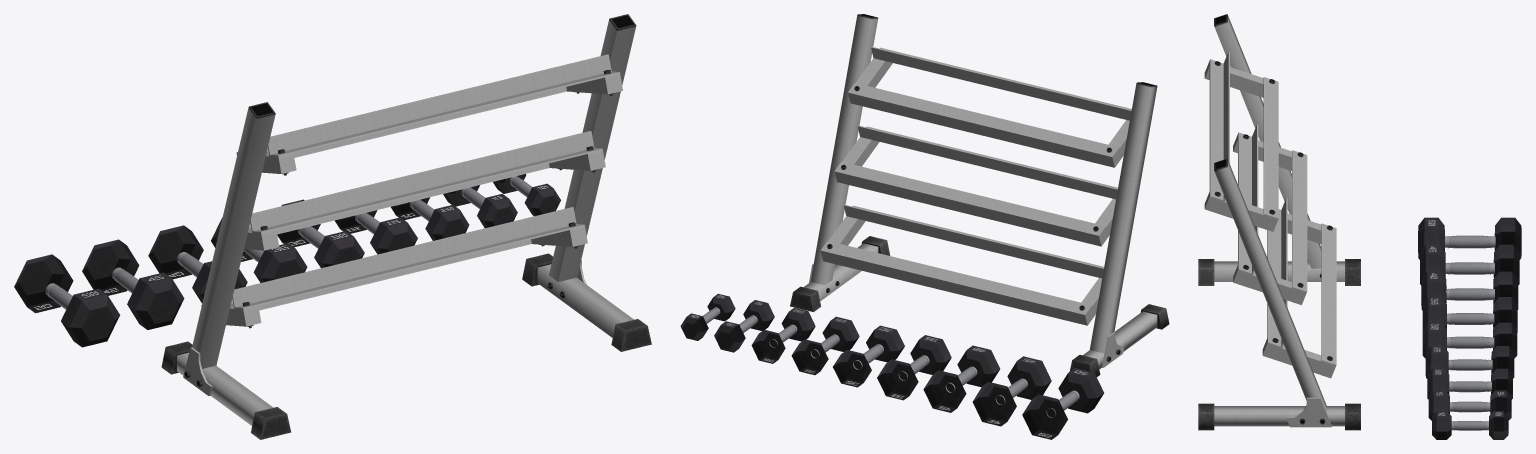
The model's file is weightRoom.glb.
3 renders of one model, left to right at view 1: azimuth 30°, elevation 25°; view 2: azimuth 150°, elevation 25°; view 3: azimuth 270°, elevation 25°, orthographic. The views are drawn at different scales.
Parts seen in each view (by area): view 1: Dumbbell_Rack_LP, defaultMaterial (×9); view 2: Dumbbell_Rack_LP, defaultMaterial (×9); view 3: Dumbbell_Rack_LP, defaultMaterial (×9).
Boxes of the visible parts, left/top/right/bottom form: Dumbbell_Rack_LP: left=161, top=14, right=651, bottom=439; defaultMaterial (×9): left=14, top=174, right=560, bottom=347; Dumbbell_Rack_LP: left=790, top=14, right=1169, bottom=376; defaultMaterial (×9): left=680, top=293, right=1103, bottom=439; Dumbbell_Rack_LP: left=1198, top=14, right=1360, bottom=430; defaultMaterial (×9): left=1418, top=217, right=1521, bottom=439.
Size of the model in its own units: 2 by 1.22 by 1.37.
Materials: 2 (2 with a texture image).
